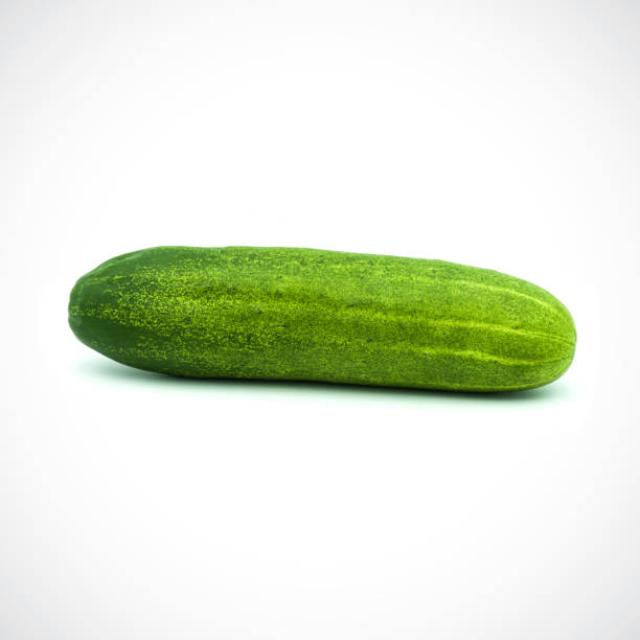cucumber: (67, 241, 580, 395)
